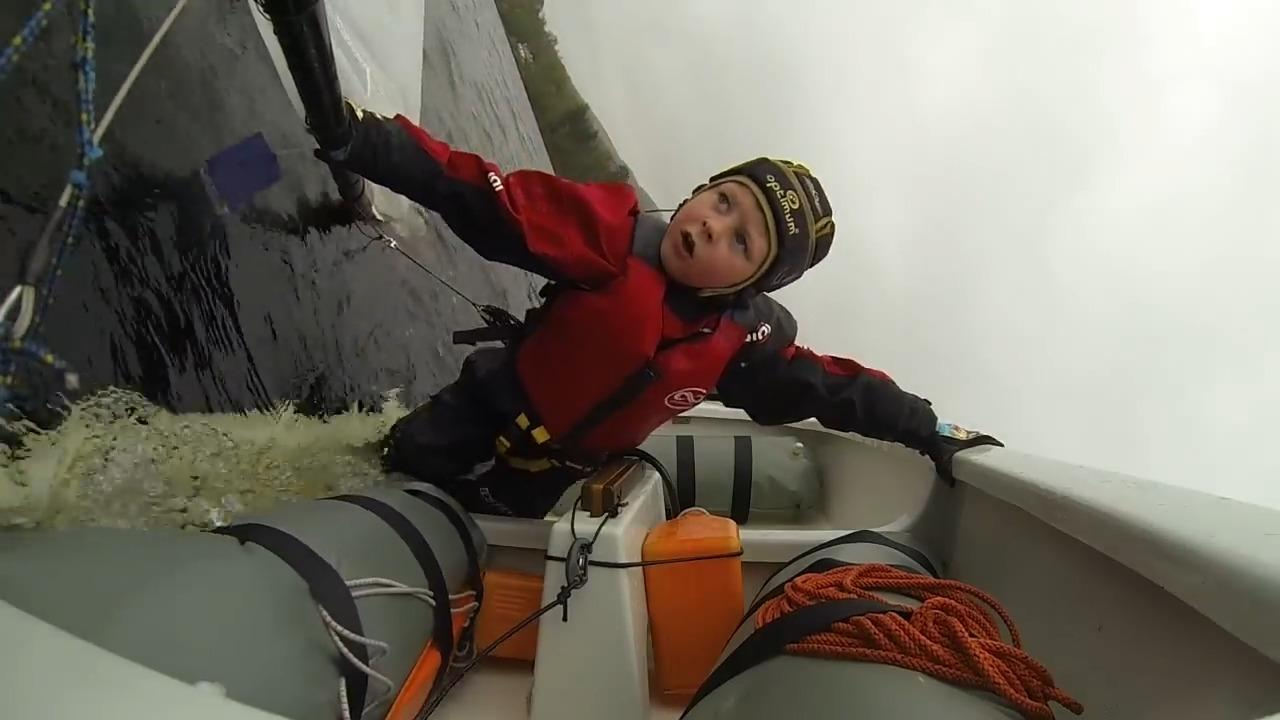boat: (0, 402, 1280, 720), (247, 0, 425, 218)
land: (493, 0, 660, 212)
person: (346, 116, 1005, 520)
sea: (0, 0, 544, 449), (418, 0, 554, 174)
sky: (542, 0, 1280, 512)
